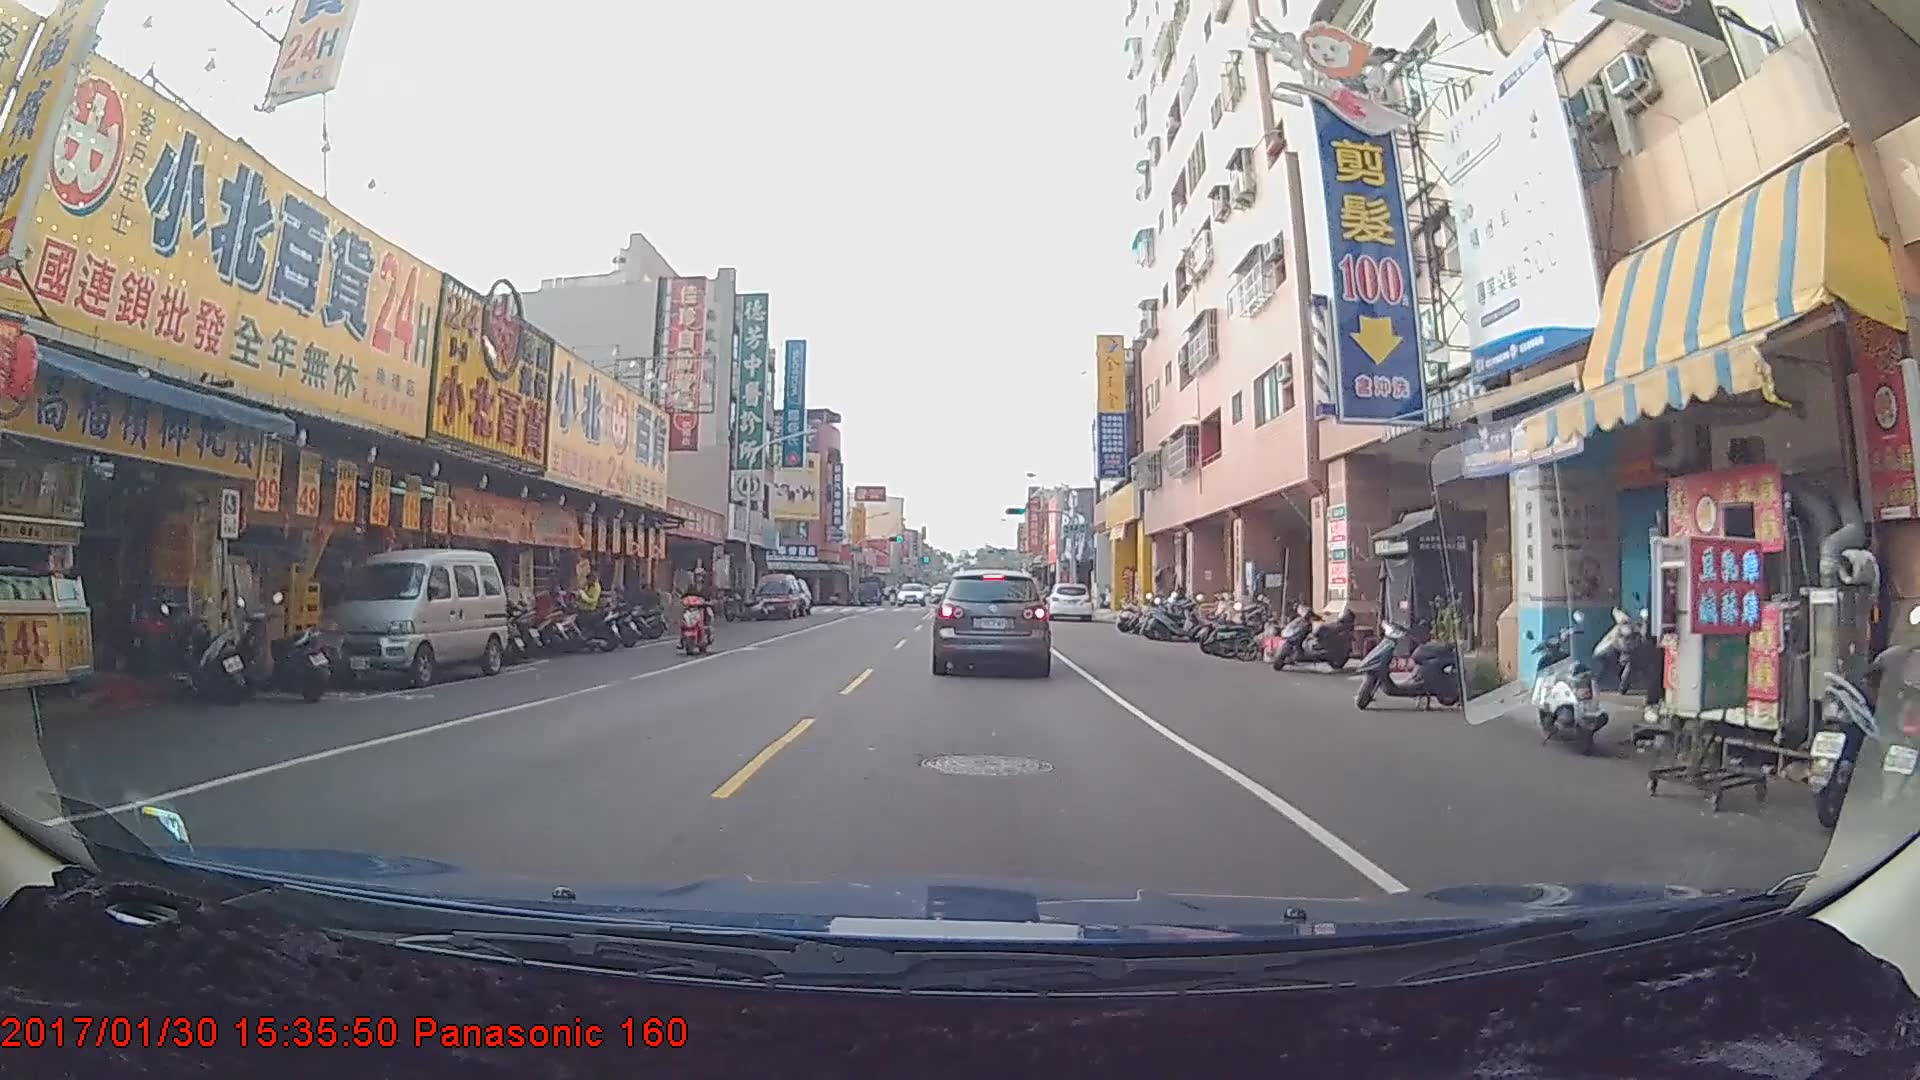pedestrian: (570, 566, 602, 643)
rider: (674, 564, 722, 656)
vehicle: (327, 551, 507, 684), (932, 569, 1049, 674), (750, 574, 801, 620), (1043, 581, 1092, 623), (894, 580, 924, 603)
